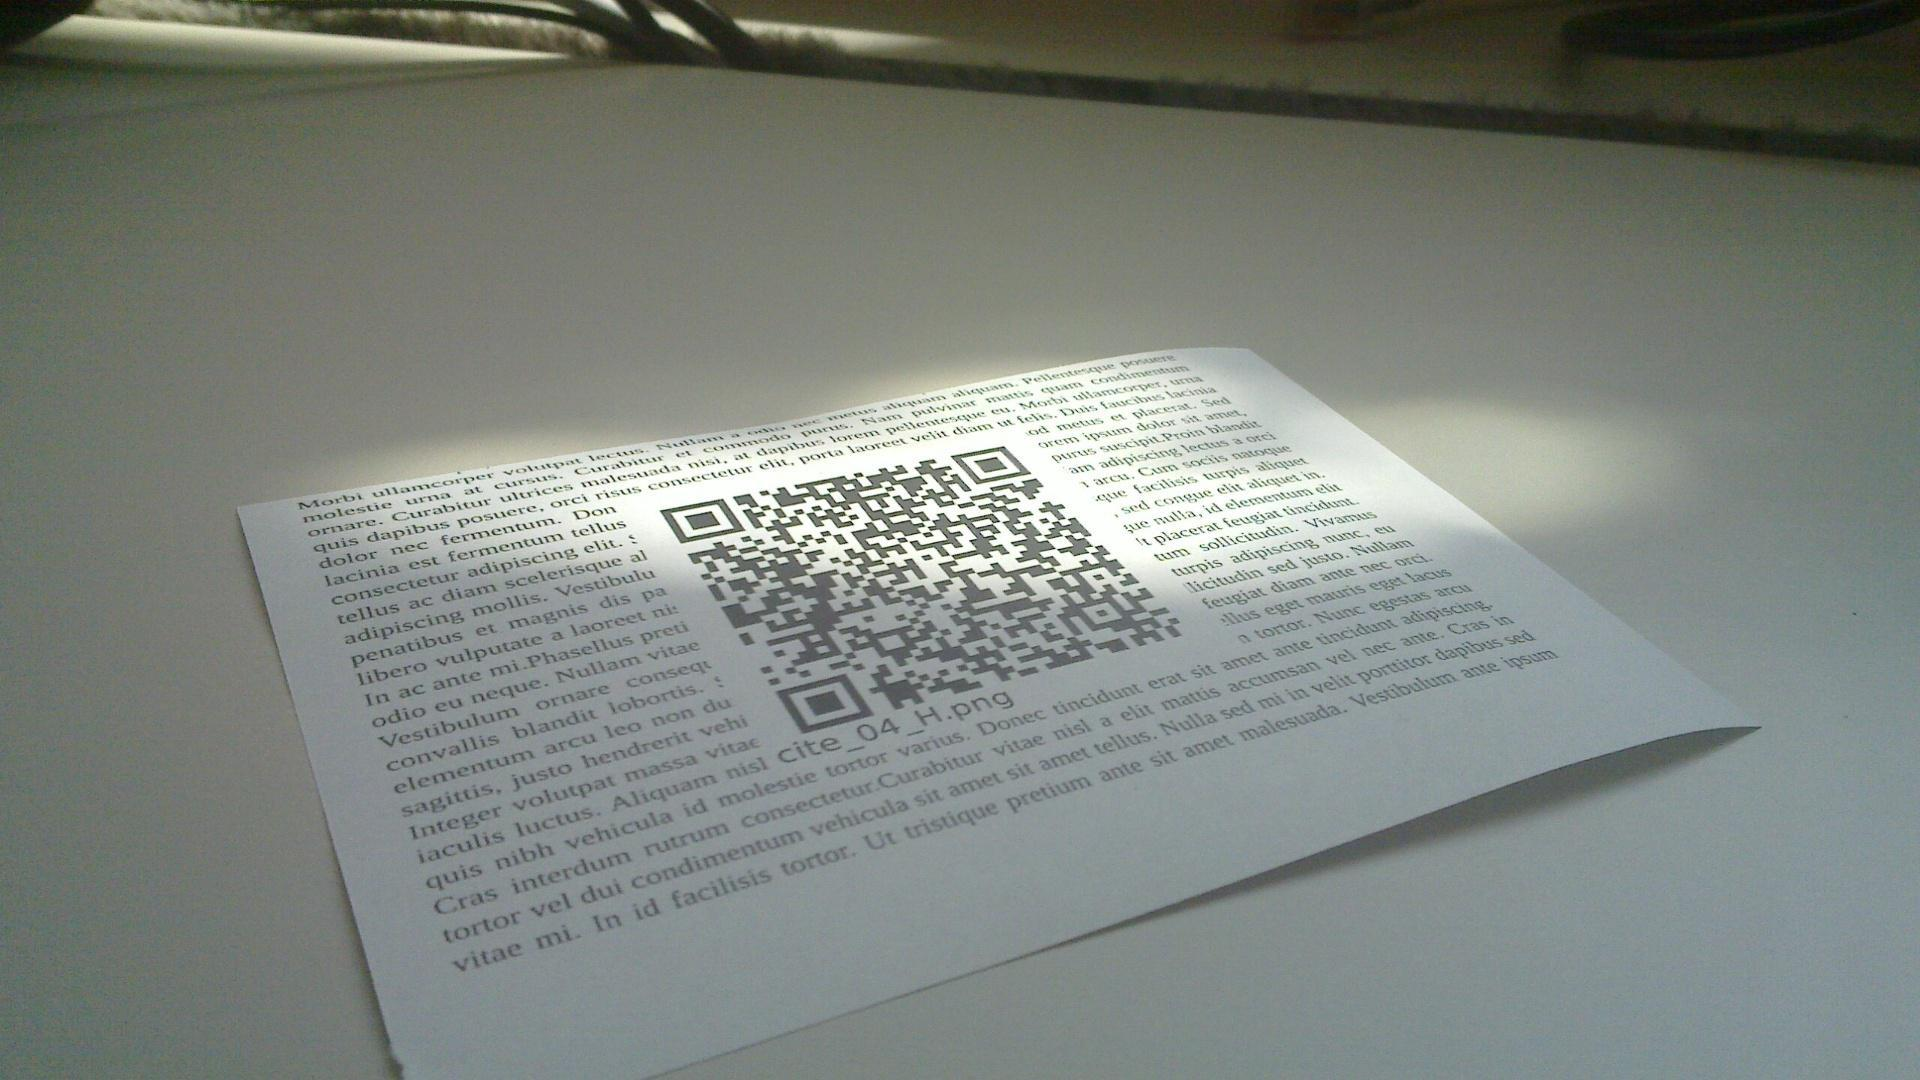Finder pattern: (774, 671, 872, 735), (945, 440, 1033, 488), (655, 498, 742, 543)
